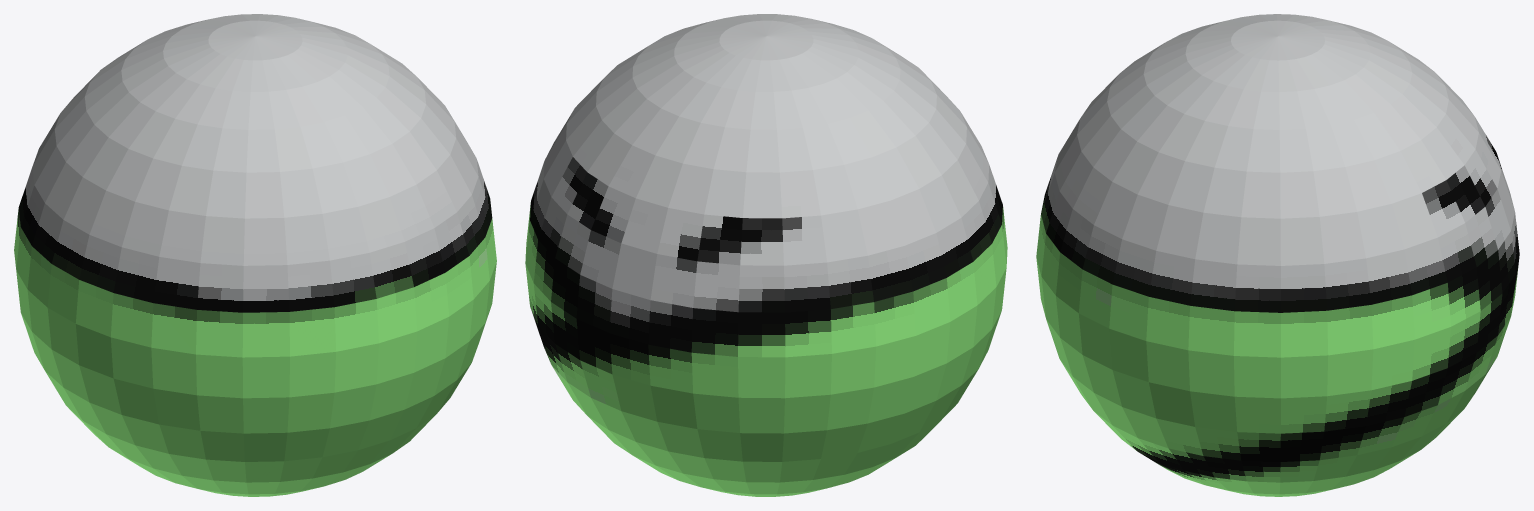
The model's file is Enemy2.obj.
3 views of the same model, side by side, from view 1: azimuth 30°, elevation 25°; view 2: azimuth 150°, elevation 25°; view 3: azimuth 270°, elevation 25° (orthographic).
Parts seen in each view (by area): view 1: 球; view 2: 球; view 3: 球.
Boxes of the visible parts, x1,y1,x2,y2 form: 球: (14,14,496,496); 球: (525,14,1007,496); 球: (1036,14,1519,496).
Bounding box in the file's own units: 2 × 2 × 2.
Materials: 1 (1 with a texture image).
